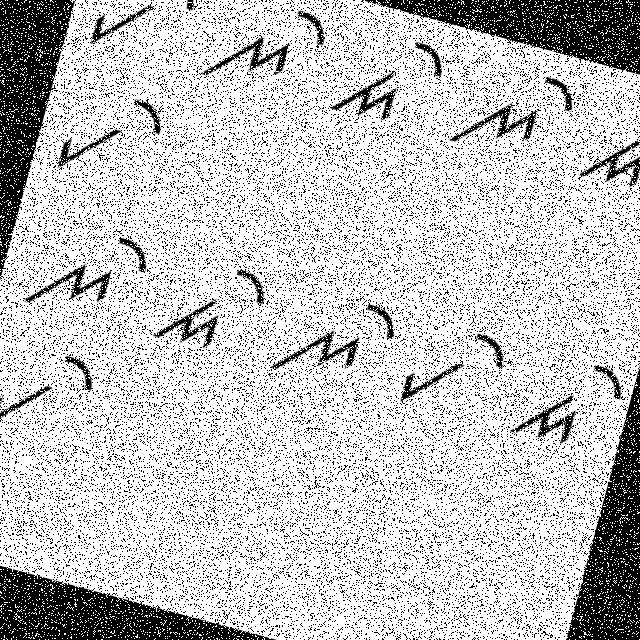day: (320, 2, 456, 152), (497, 338, 635, 466), (148, 246, 274, 368), (569, 82, 639, 211)
nay: (440, 49, 583, 174), (264, 276, 404, 403), (17, 214, 156, 338), (194, 0, 335, 116)
pay: (44, 68, 176, 196), (392, 302, 514, 434), (0, 333, 105, 453), (79, 0, 210, 77)
